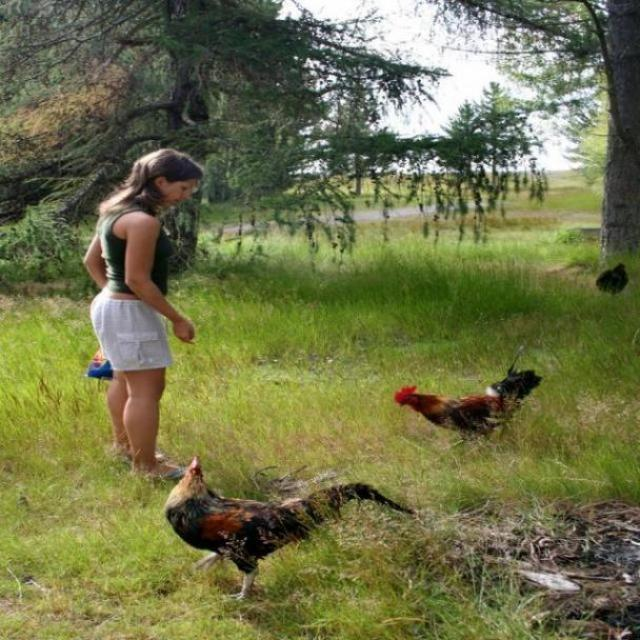Chicken: (120, 455, 423, 585), (387, 342, 551, 447), (586, 256, 637, 299)
